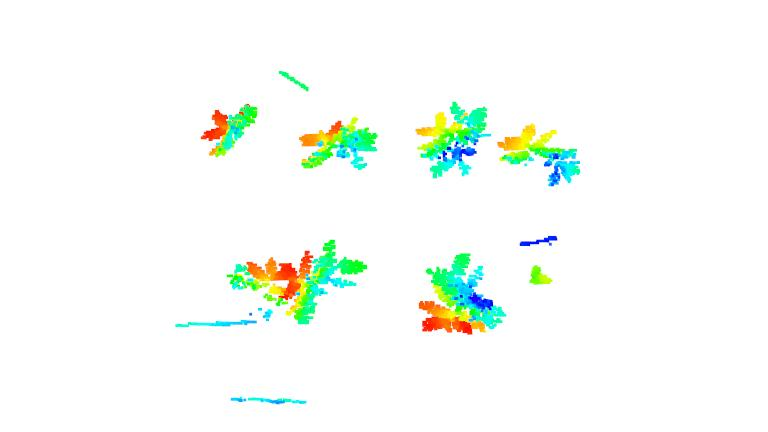chickpea: (269, 241, 368, 325), (418, 253, 507, 336), (414, 101, 490, 180), (497, 124, 583, 184), (299, 117, 378, 171), (198, 102, 258, 159), (229, 255, 282, 305), (525, 261, 554, 289)
